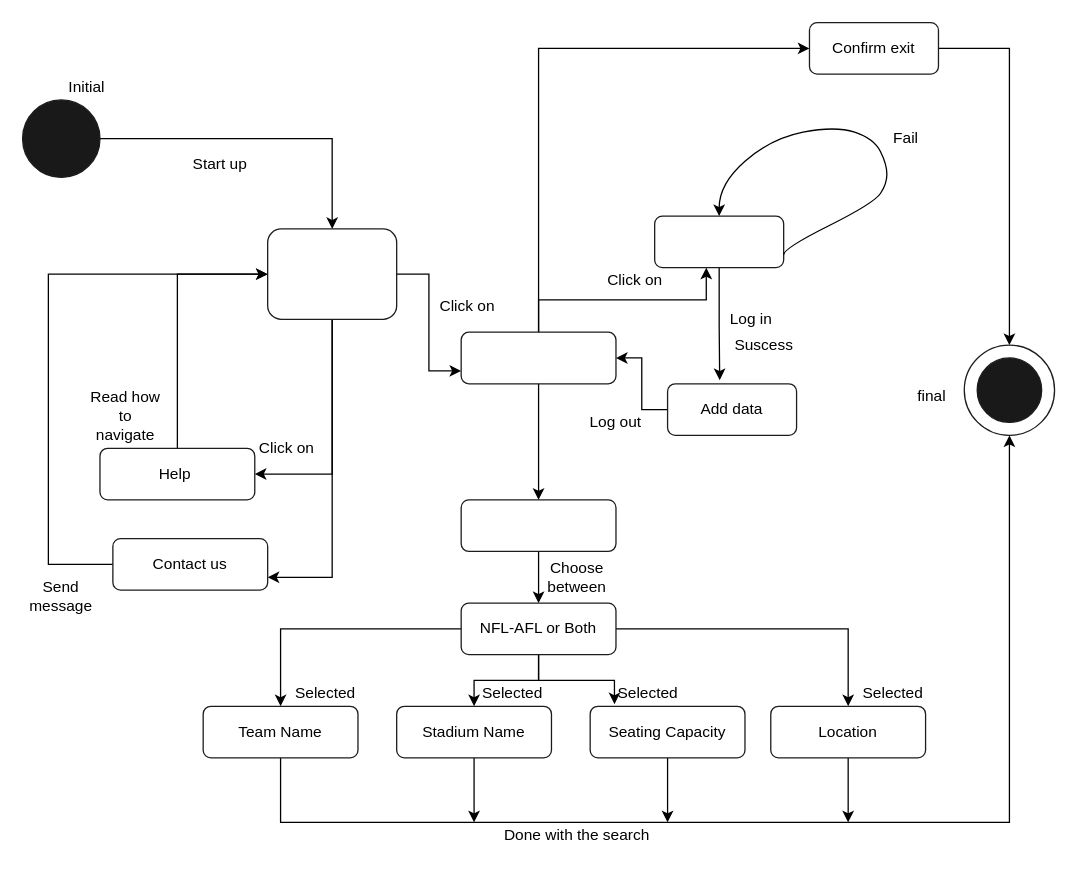
The diagram is 1077 pixels wide and 871 high, and some of its shapes have lost their labels. Here are the shapes that lost their labels. From the top down, the box of each, then its label:
(653, 215, 784, 268): Admin page user must log in
(266, 228, 397, 319): Home Page
(460, 331, 616, 384): Tabs
(460, 499, 616, 551): Sort Page
